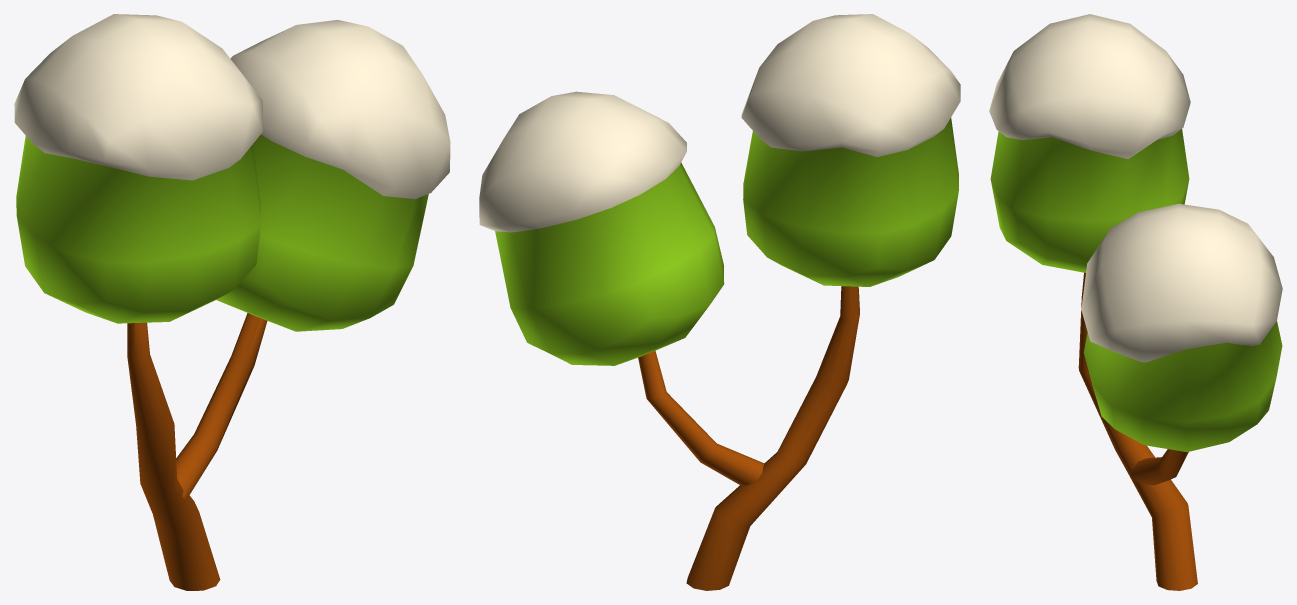
The model's file is Tree_29_Winter.fbx.
3 renders of one model, left to right at view 1: azimuth 30°, elevation 25°; view 2: azimuth 150°, elevation 25°; view 3: azimuth 270°, elevation 25°, orthographic. The views are drawn at different scales.
Parts seen in each view (by area): view 1: Tree_29_p2_Winter, Tree_29_p1_Winter; view 2: Tree_29_p2_Winter, Tree_29_p1_Winter; view 3: Tree_29_p2_Winter, Tree_29_p1_Winter.
Boxes of the visible parts, x1=… form: Tree_29_p2_Winter: x1=14, y1=14, x2=450, y2=331; Tree_29_p1_Winter: x1=127, y1=313, x2=267, y2=590; Tree_29_p2_Winter: x1=479, y1=14, x2=960, y2=365; Tree_29_p1_Winter: x1=638, y1=286, x2=859, y2=590; Tree_29_p2_Winter: x1=989, y1=14, x2=1282, y2=452; Tree_29_p1_Winter: x1=1078, y1=272, x2=1197, y2=590.
Size of the model in its own units: 297 by 394 by 203.
